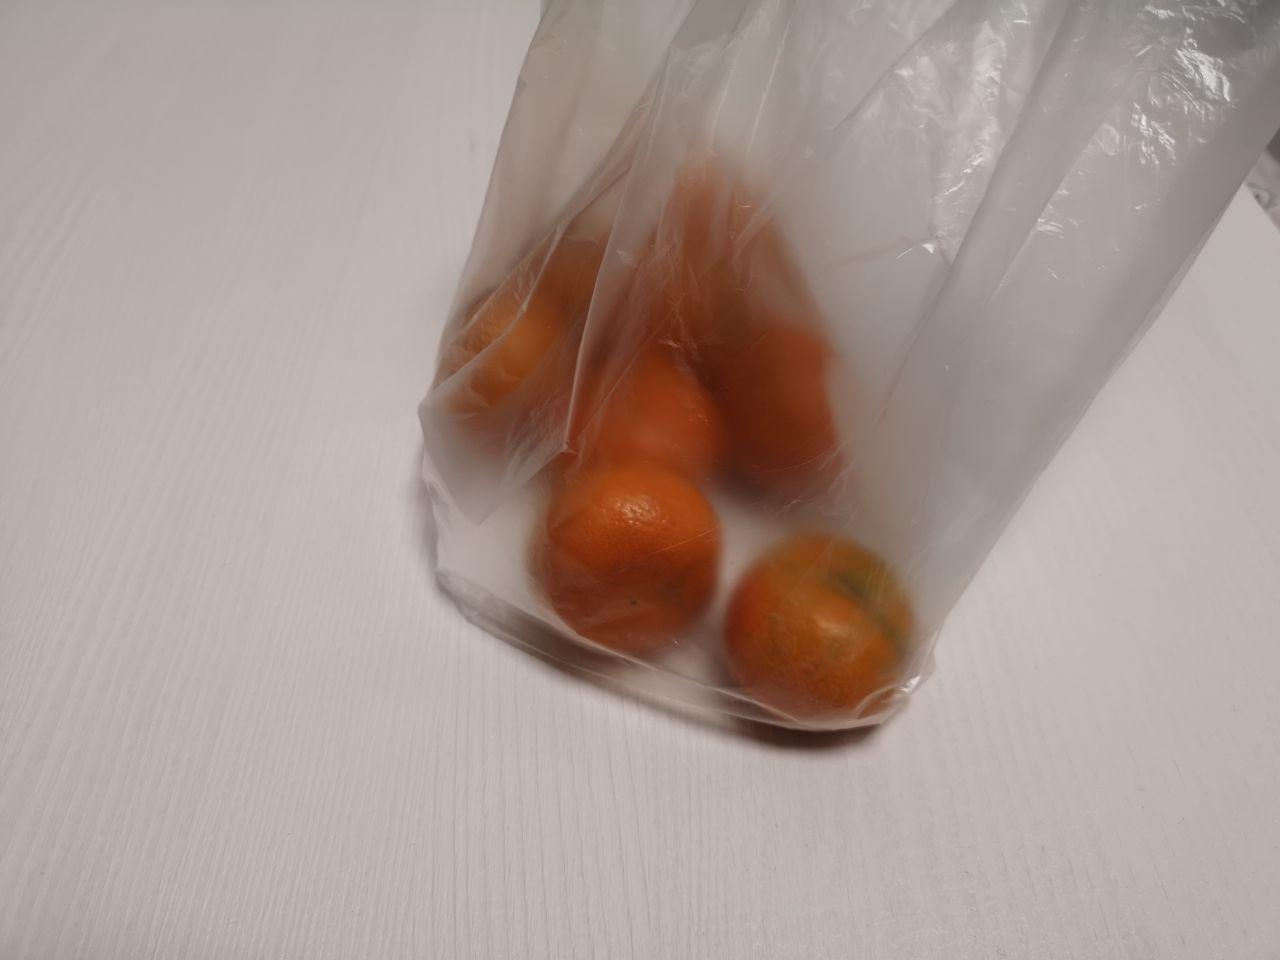clementin: (427, 126, 1002, 778)
